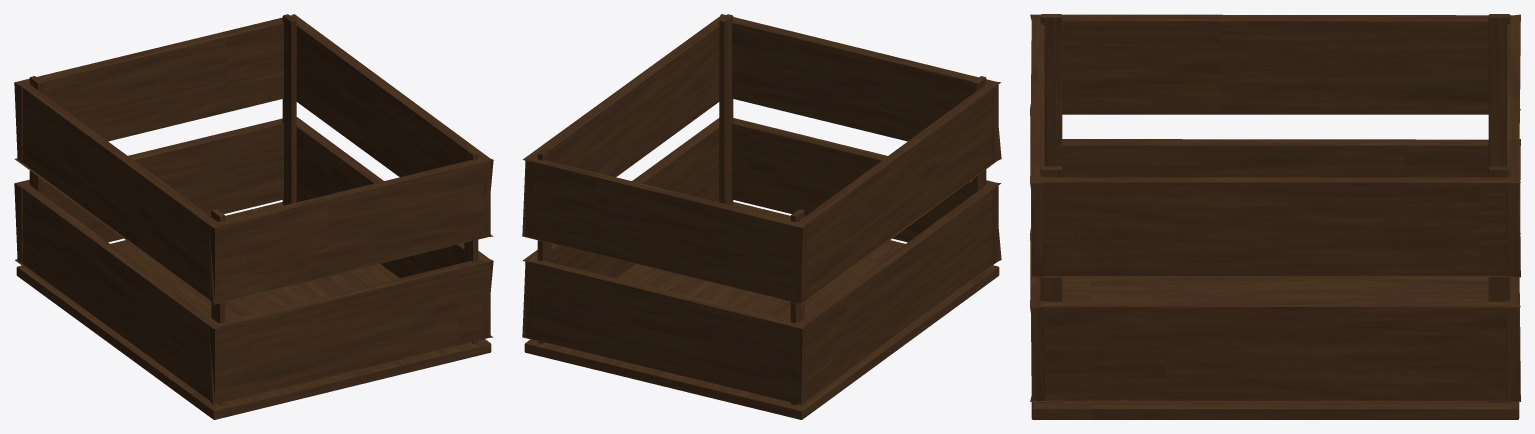
File: vinyl_crate.glb
3 renders of one model, left to right at view 1: azimuth 30°, elevation 25°; view 2: azimuth 150°, elevation 25°; view 3: azimuth 270°, elevation 25°, orthographic. The views are drawn at different scales.
Visible parts, largest first — view 1: crate; view 2: crate; view 3: crate.
Part boxes in pixels (x1,y1,x2,y2): crate: (14,14,493,419); crate: (522,14,1001,419); crate: (1030,14,1520,419).
Size of the model in its own units: 0.363 by 0.247 by 0.447.
1 material, 1 textured.
